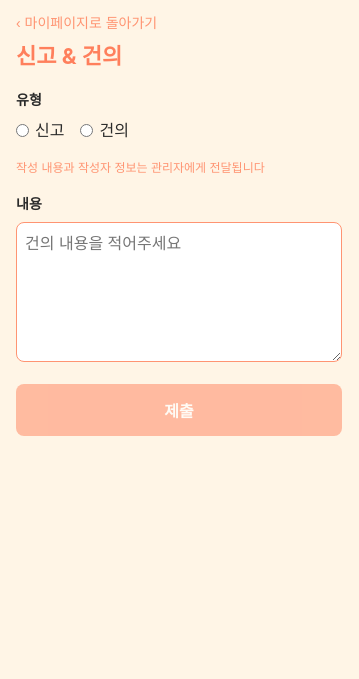
Test case: Report › 건의 선택 시 대상 입력칸 사라짐
This screenshot has width=359, height=679.
Click the radio button labelled "신고".
click(22, 130)  # box x1=16 y1=124 x2=29 y2=136
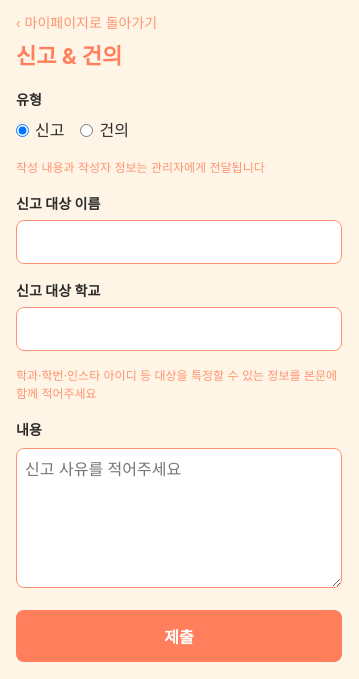
Click the radio button labelled "건의".
click(87, 130)  # box x1=80 y1=124 x2=94 y2=136
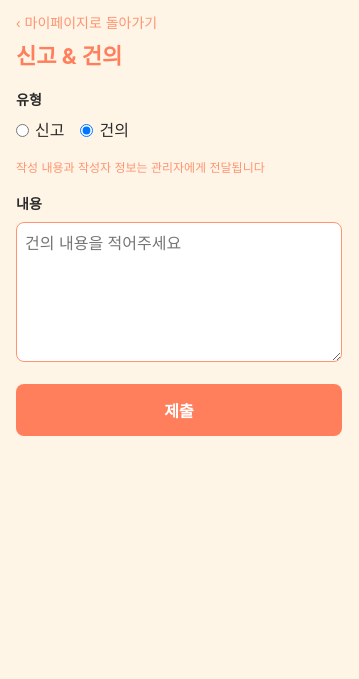
Check: the label labelled "신고 대상 이름" is gone
Check: the label labelled "신고 대상 학교" is gone
Check: the text "대상을 특정할 수 있는 정보" is gone
